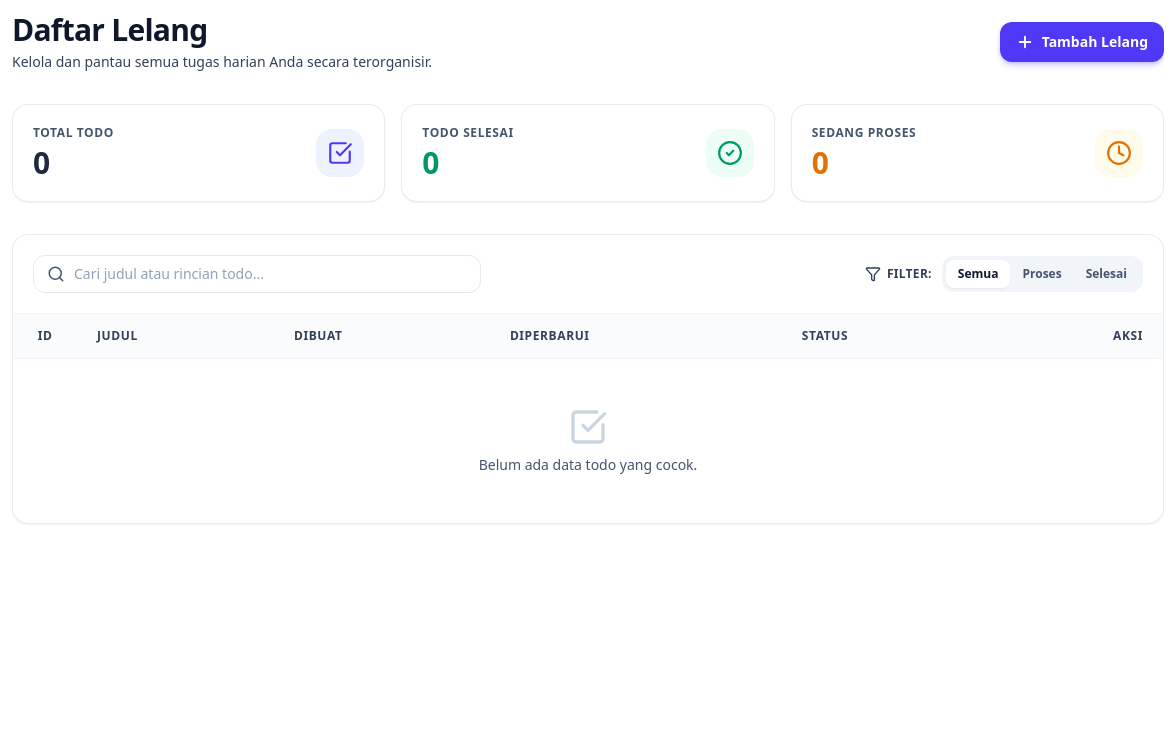
Scenario: HomePage › should display loading indicator while loading todos
Click the button with test id "filter-pending-btn".
click(1042, 274)  # box [1010,260,1074,288]
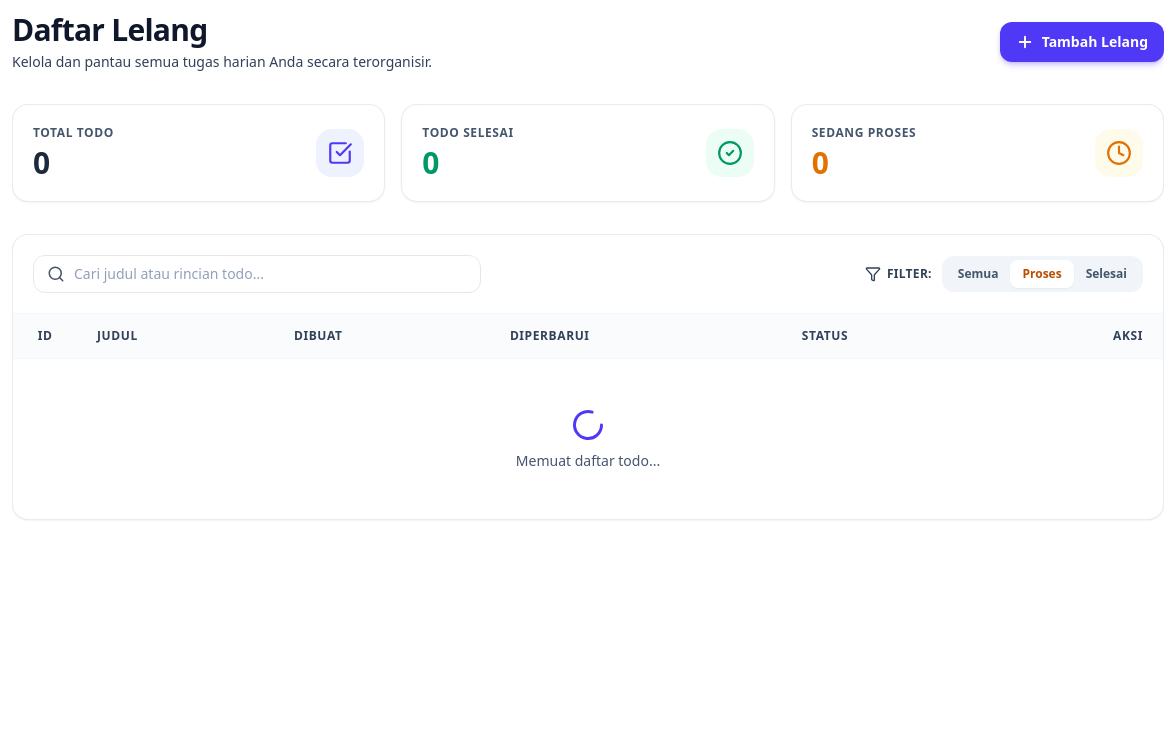
Now the text "Memuat daftar todo..." is shown, box [516,451,660,470]
